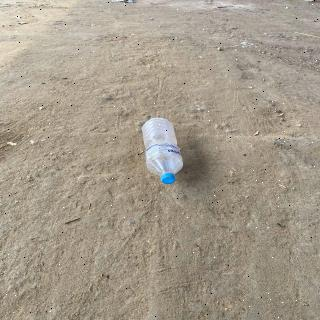Plastic-bottle: (139, 116, 187, 188)
